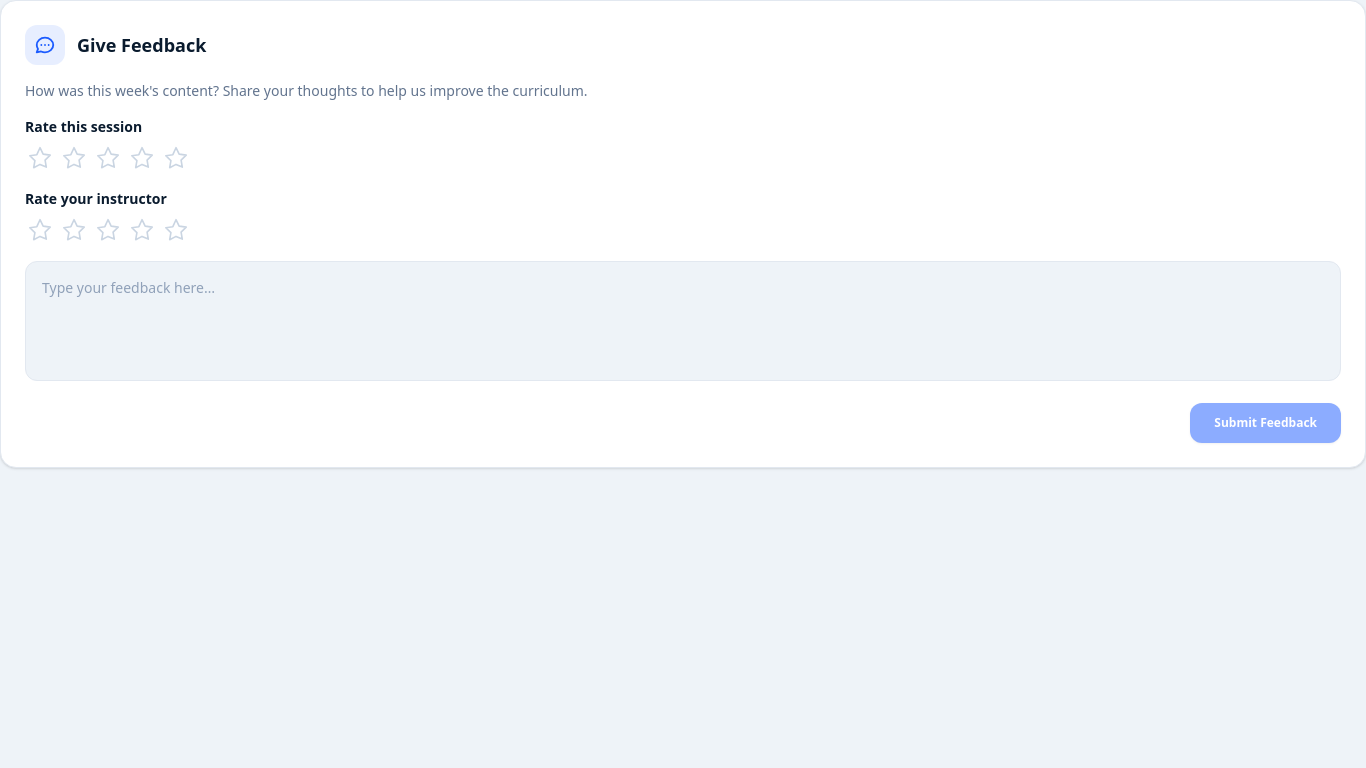
Scenario: WeekFeedback (US5 — persisted) › shows the thank-you popup naming the awarded points (FR-025)
Click the radio button named "5 stars" below "Rate this session". click: (176, 158)
box: [161,143,191,173]
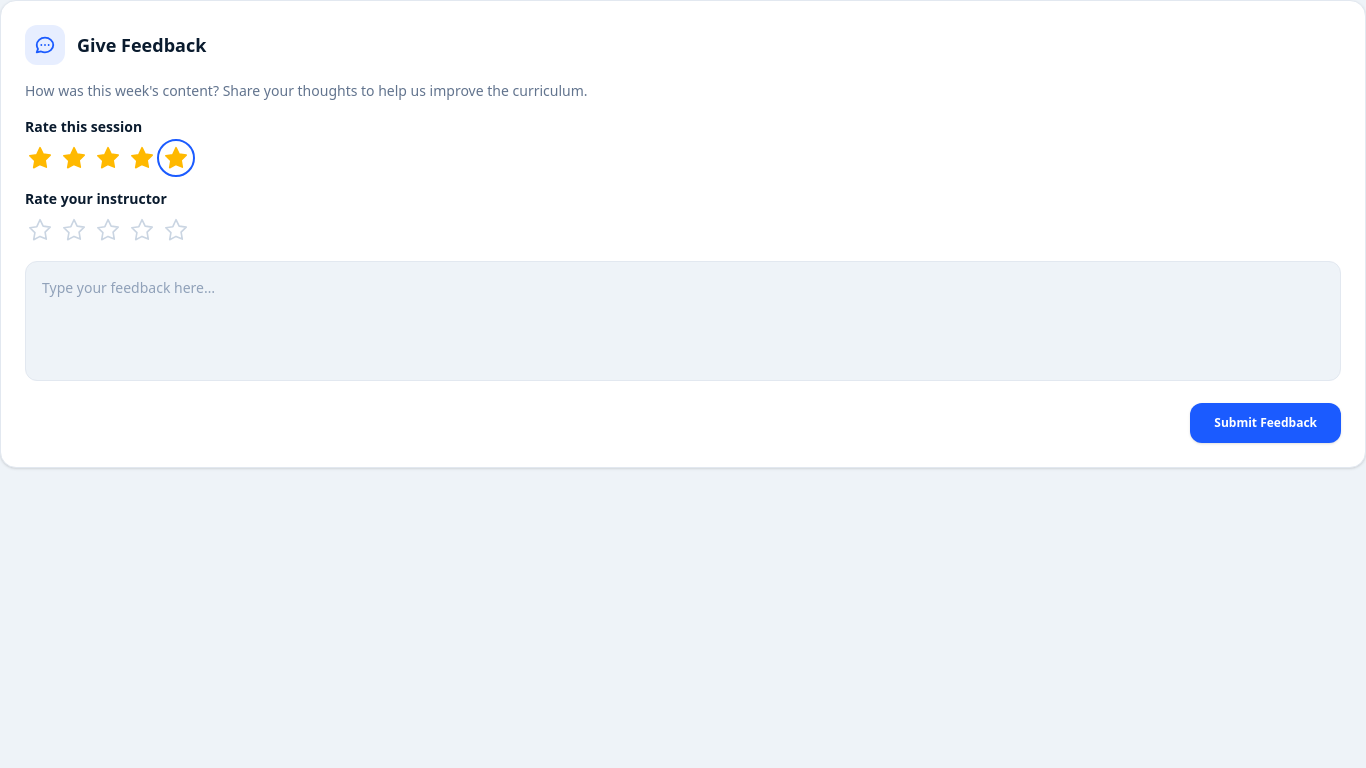
Click the button "Submit Feedback". click: (1266, 423)
box: [1190,403,1341,443]
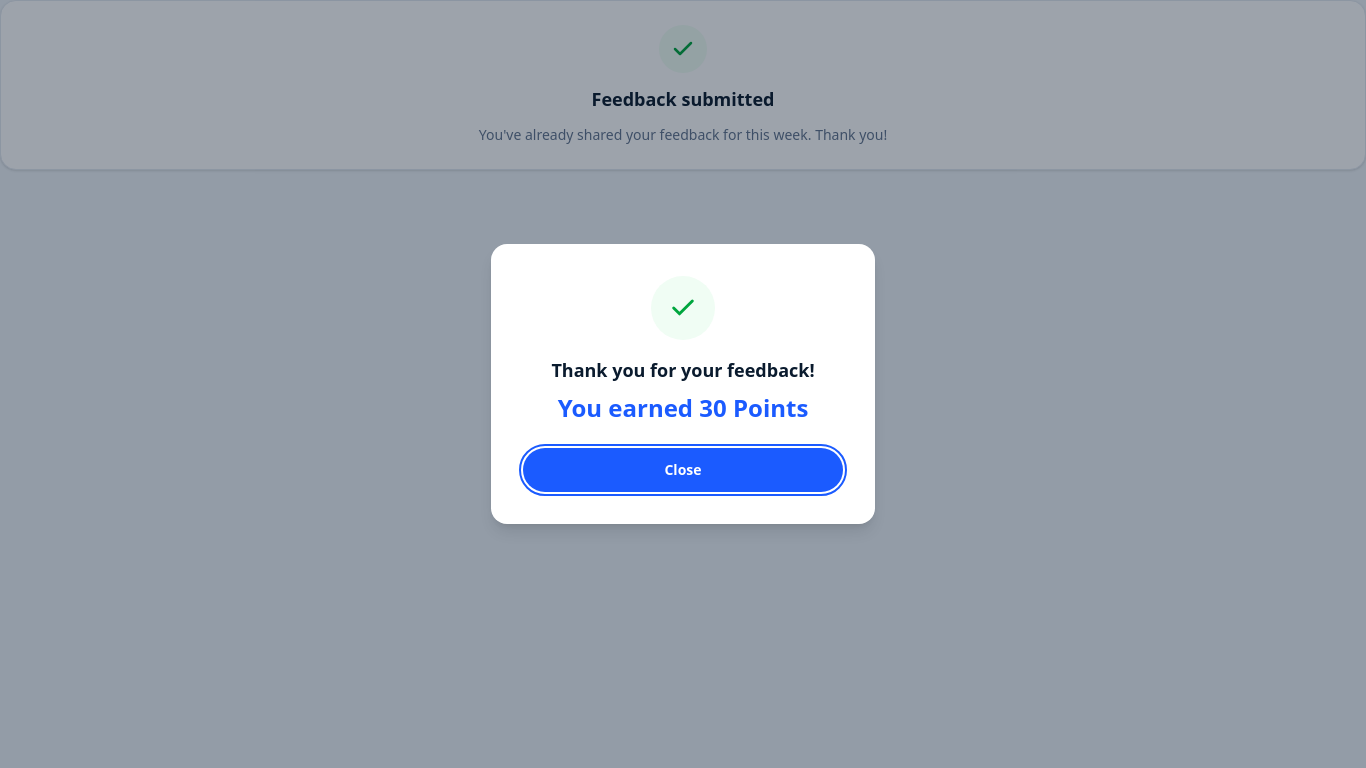
Check: the heading "Thank you for your feedback!" is shown, box [551,358,815,382]
